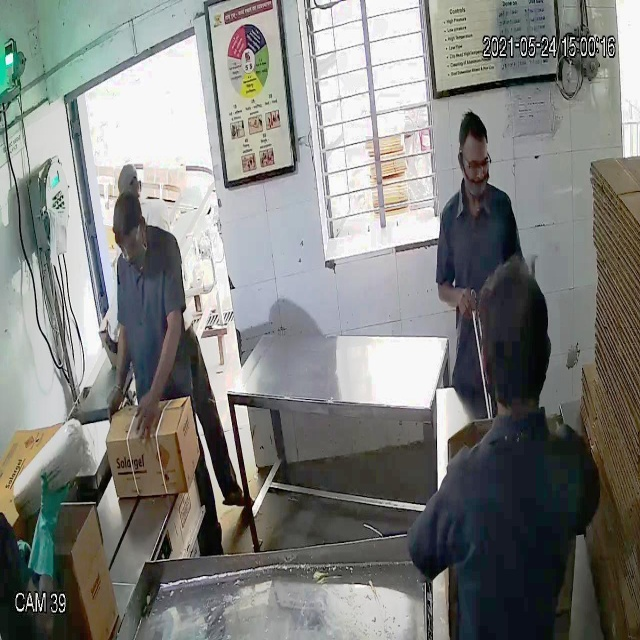Gafas: (454, 146, 497, 181)
